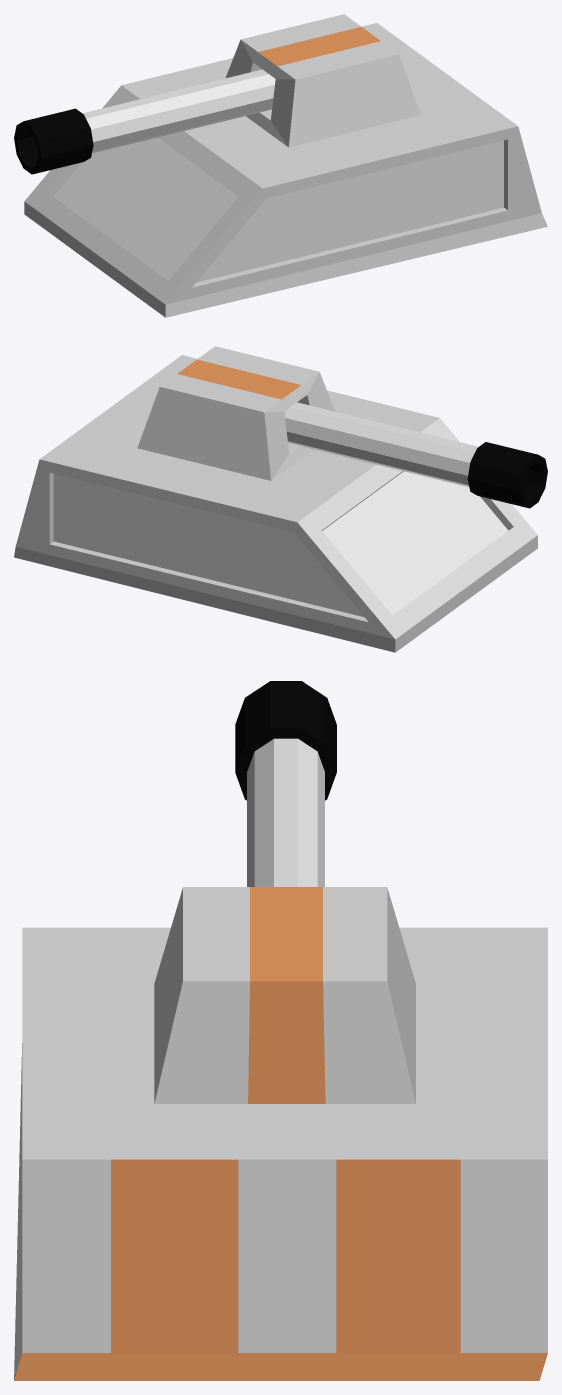
File: Default Tank Cannon.fbx
The picture shows the model from 3 angles, top to bottom: view 1: azimuth 30°, elevation 25°; view 2: azimuth 150°, elevation 25°; view 3: azimuth 270°, elevation 25°; orthographic projection. The views are drawn at different scales.
Visible parts, largest first — view 1: Cube.002; view 2: Cube.002; view 3: Cube.002.
Boxes of the visible parts, x1,y1,x2,y2 form: Cube.002: (14,14,547,317); Cube.002: (14,346,547,652); Cube.002: (14,681,547,1380).
Size of the model in its own units: 380 by 133 by 211.
